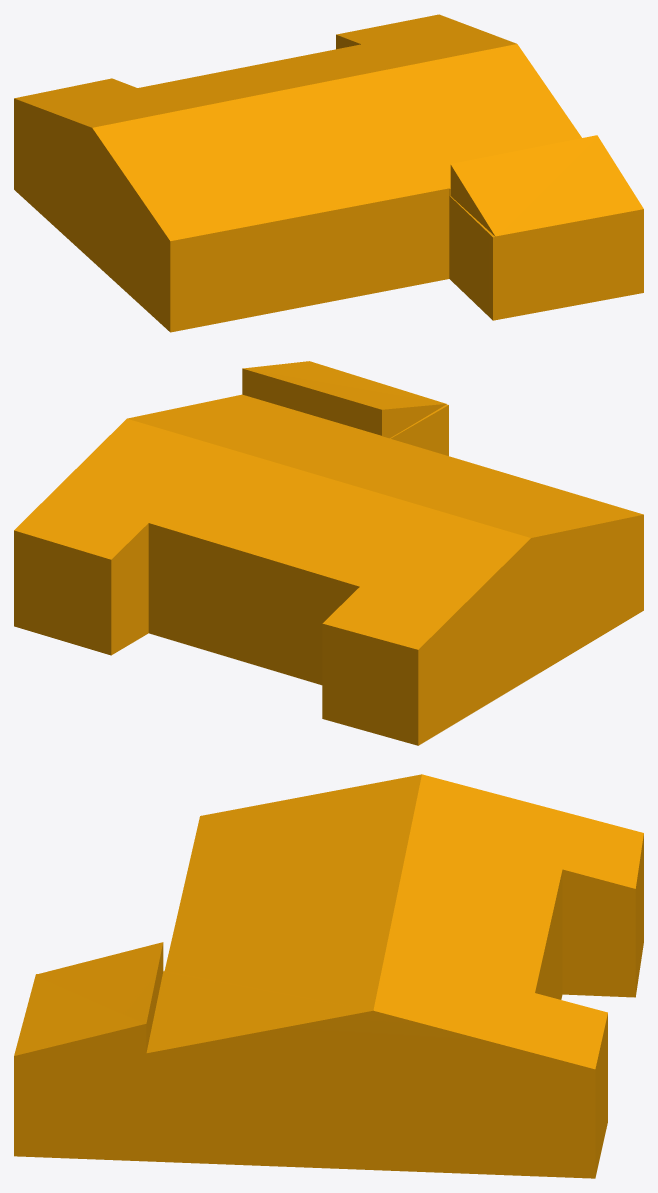
The model's file is DEHB01ALs0000gQc.gltf.
3 renders of one model, top to bottom at view 1: azimuth 30°, elevation 25°; view 2: azimuth 150°, elevation 25°; view 3: azimuth 270°, elevation 25°, orthographic. The views are drawn at different scales.
Visible parts, largest first — view 1: Z_UP; view 2: Z_UP; view 3: Z_UP.
Part boxes in pixels (x1,y1,x2,y2): Z_UP: (14, 14, 643, 332); Z_UP: (14, 361, 643, 745); Z_UP: (14, 774, 643, 1178).
Bounding box in the file's own units: 15.63 × 4.59 × 16.42.
